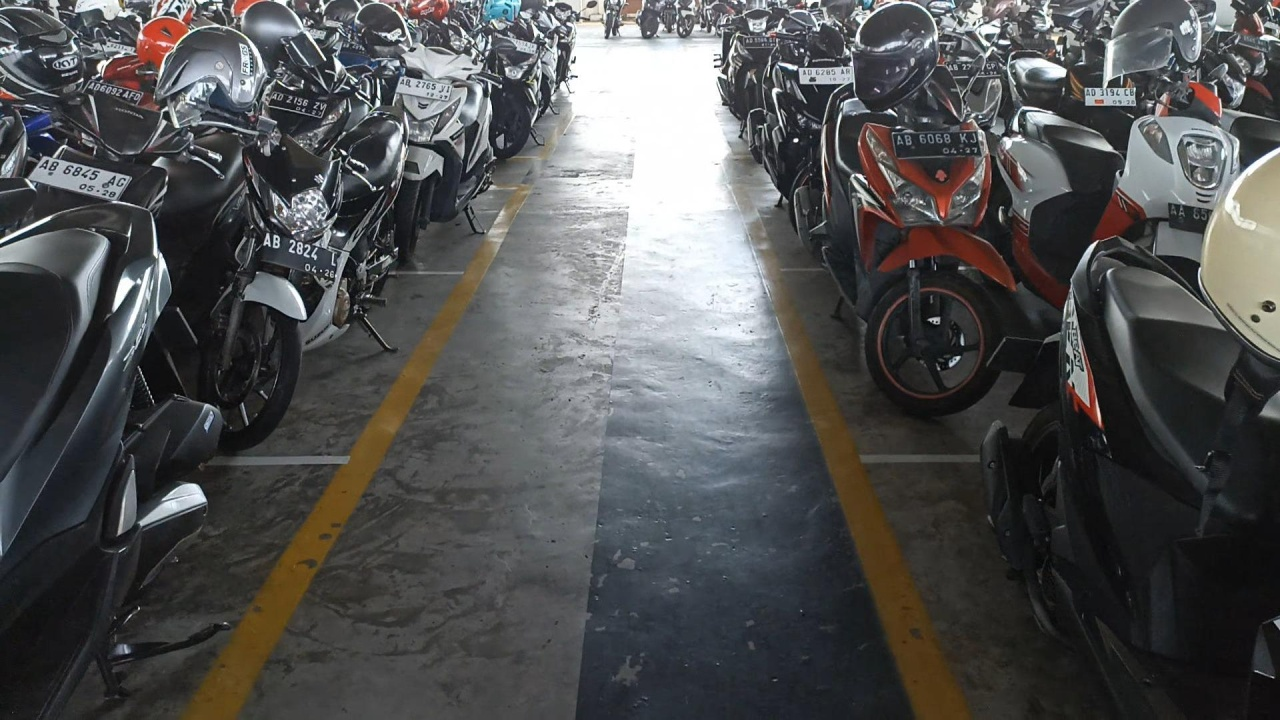plate: (27, 156, 132, 202), (260, 231, 338, 281), (893, 131, 983, 159), (268, 91, 326, 118), (396, 77, 452, 101), (799, 66, 853, 85), (1085, 87, 1136, 106)
